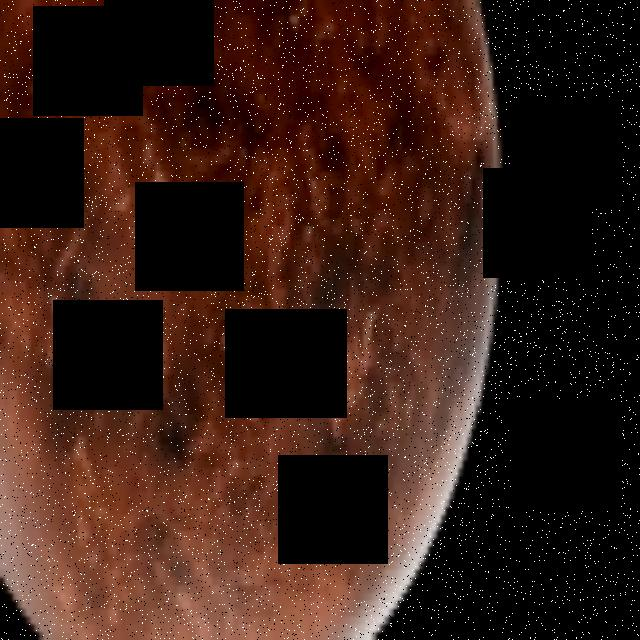Venus: (0, 0, 502, 640)
